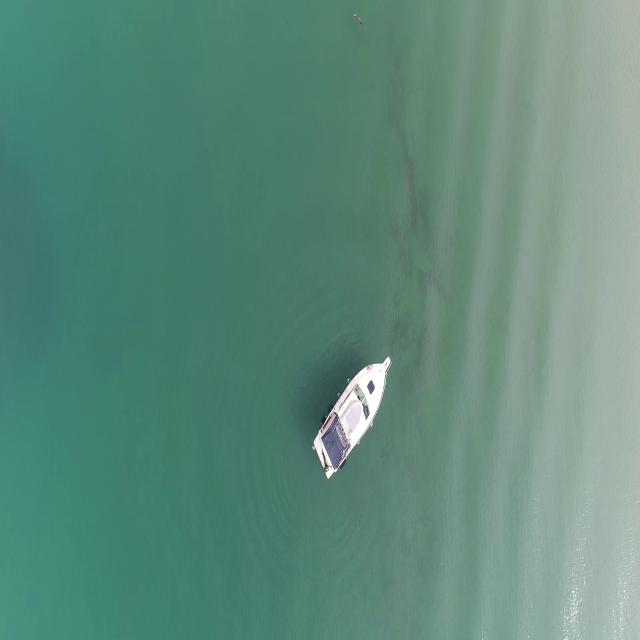boat: (315, 351, 392, 483)
wood: (353, 12, 365, 26)
